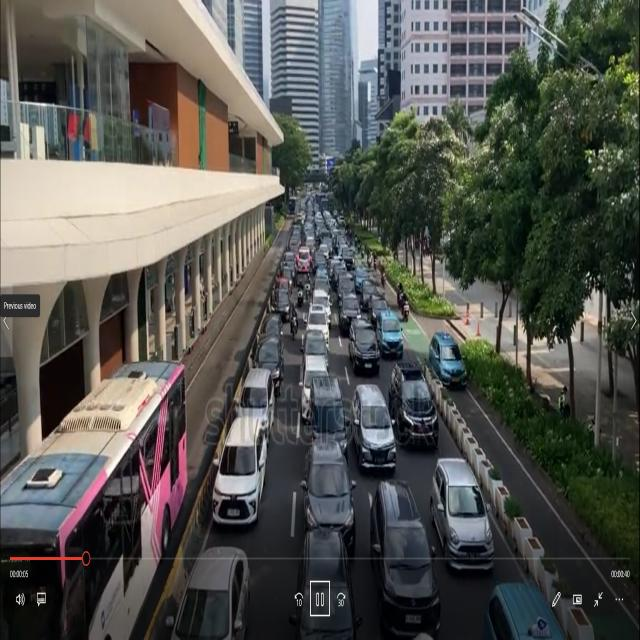Ambulance: (297, 240, 313, 278)
